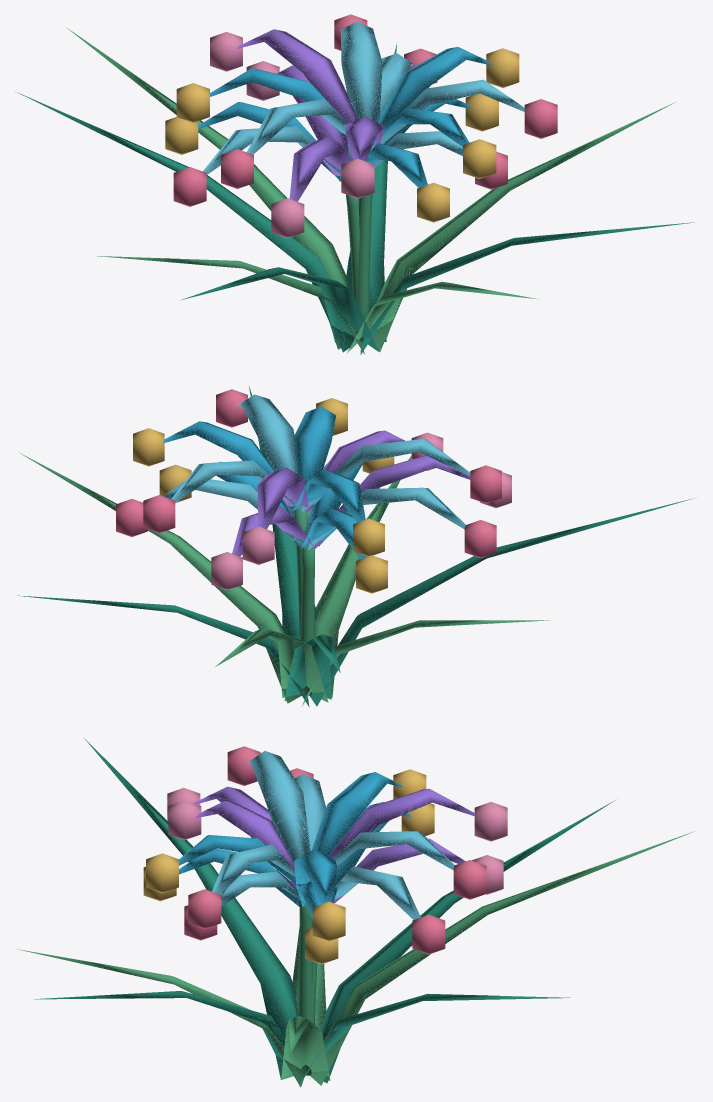
Rendered from verdant_flower_fountain.glb.
3 views of the same model, one above another, from view 1: azimuth 30°, elevation 25°; view 2: azimuth 150°, elevation 25°; view 3: azimuth 270°, elevation 25° (orthographic). The views are drawn at different scales.
Visible parts, largest first — view 1: verdant_flower_fountain; view 2: verdant_flower_fountain; view 3: verdant_flower_fountain.
Boxes of the visible parts, x1,y1,x2,y2 form: verdant_flower_fountain: (15, 14, 694, 354); verdant_flower_fountain: (18, 385, 693, 706); verdant_flower_fountain: (16, 738, 695, 1087).
Size of the model in its own units: 2.37 by 1.04 by 2.33.
